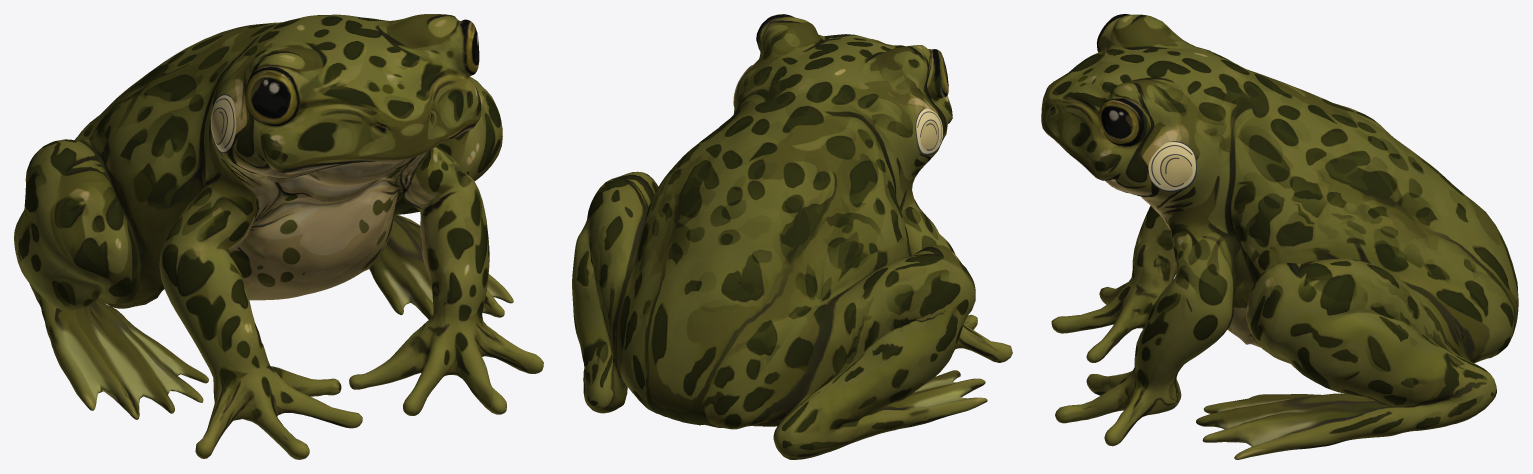
Rendered from frog_female.glb.
3 views of the same model, side by side, from view 1: azimuth 30°, elevation 25°; view 2: azimuth 150°, elevation 25°; view 3: azimuth 270°, elevation 25° (orthographic). The views are drawn at different scales.
Parts seen in each view (by area): view 1: 母青蛙, 母青蛙鼓膜; view 2: 母青蛙, 母青蛙鼓膜; view 3: 母青蛙, 母青蛙鼓膜.
Boxes of the visible parts, x1,y1,x2,y2 form: 母青蛙: (14,14,543,459); 母青蛙鼓膜: (210,94,236,153); 母青蛙: (572,14,1012,459); 母青蛙鼓膜: (733,65,943,155); 母青蛙: (1041,14,1518,459); 母青蛙鼓膜: (1148,141,1196,192).
Size of the model in its own units: 96.97 by 76.05 by 99.83.
2 materials, 2 textured.
